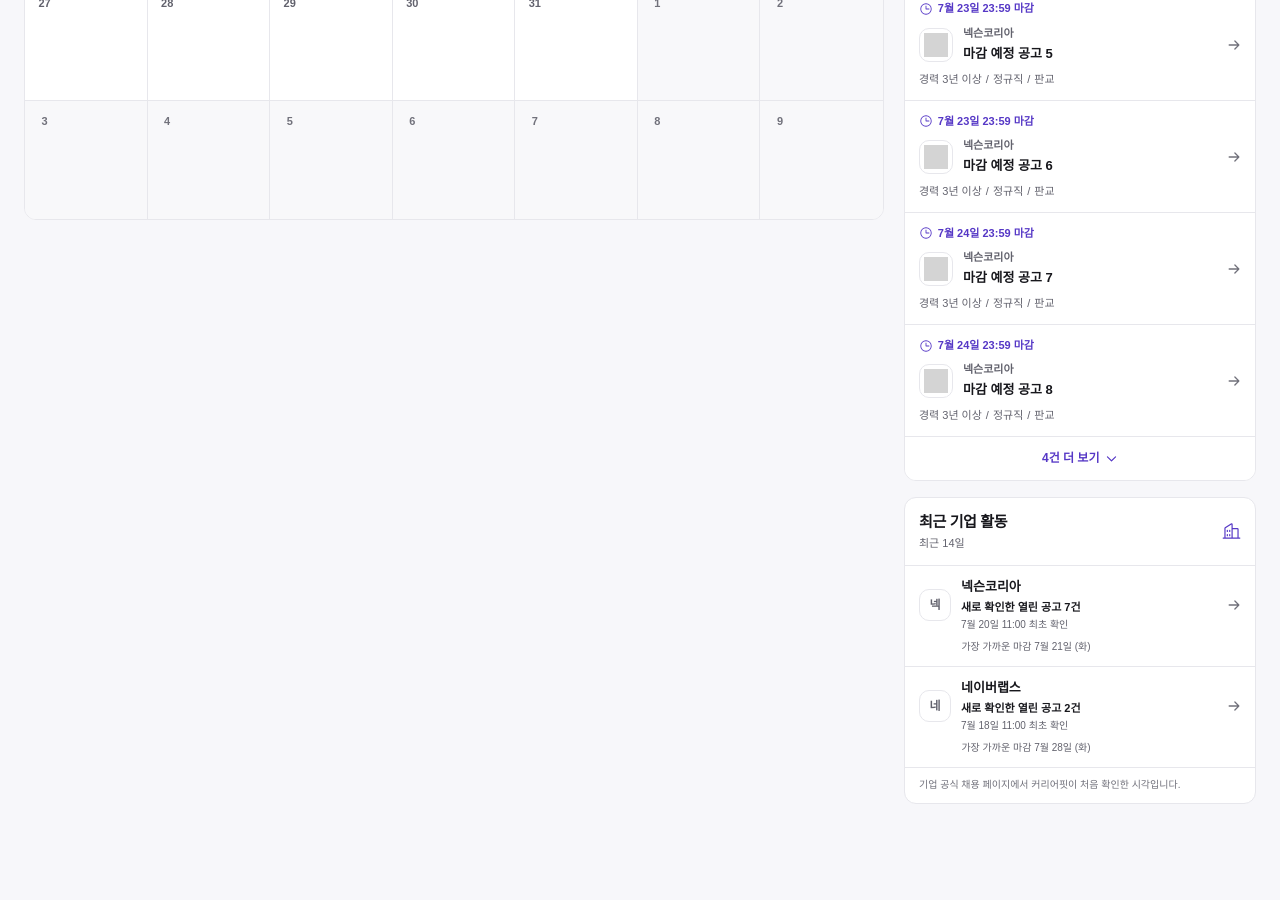
Scenario: HiringCalendar › keeps the upcoming panel compact and expands only on request
(page scrolled)
Click the button "4건 더 보기": (1080, 458) [905, 436, 1255, 480]
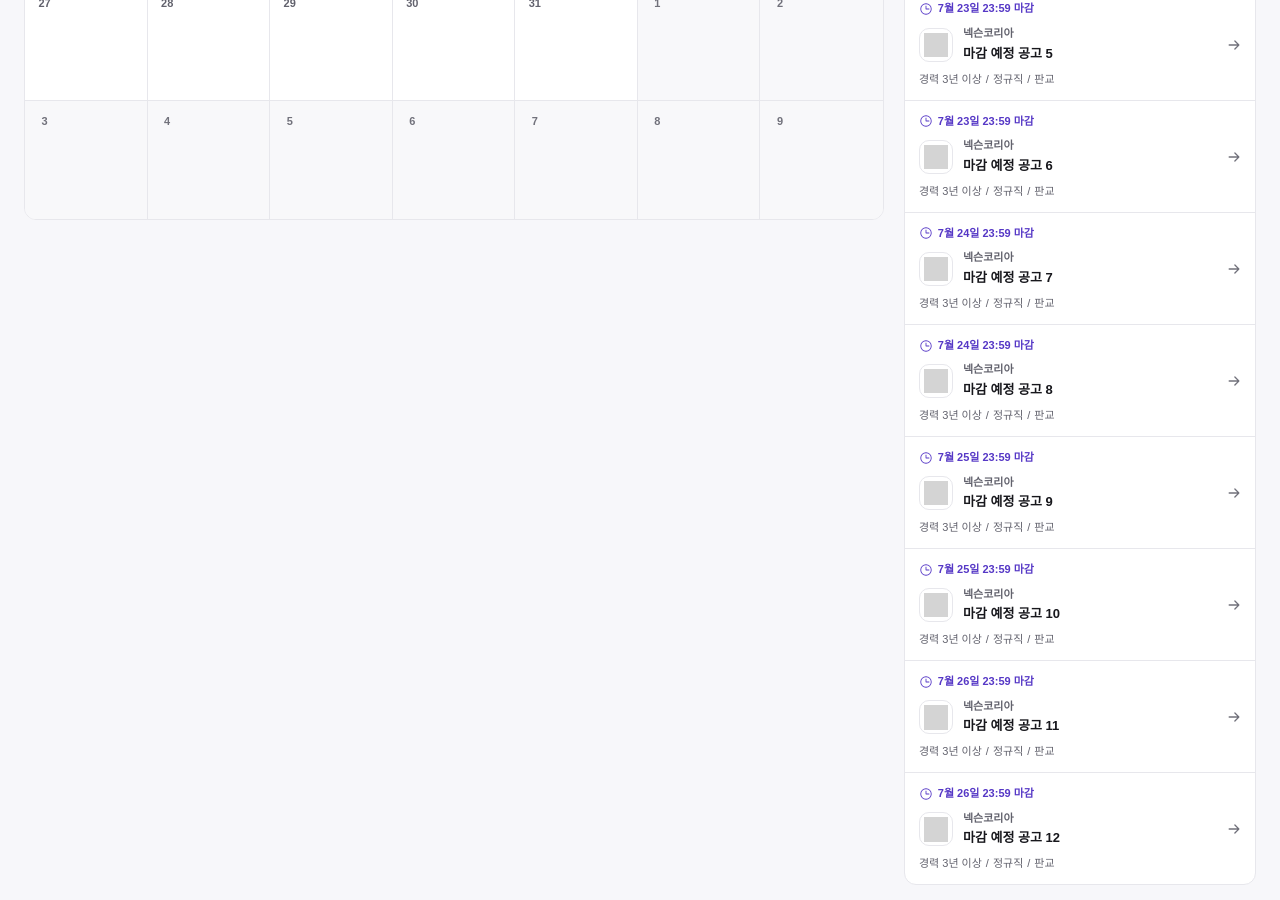
Result: the button "더 보기" is gone
